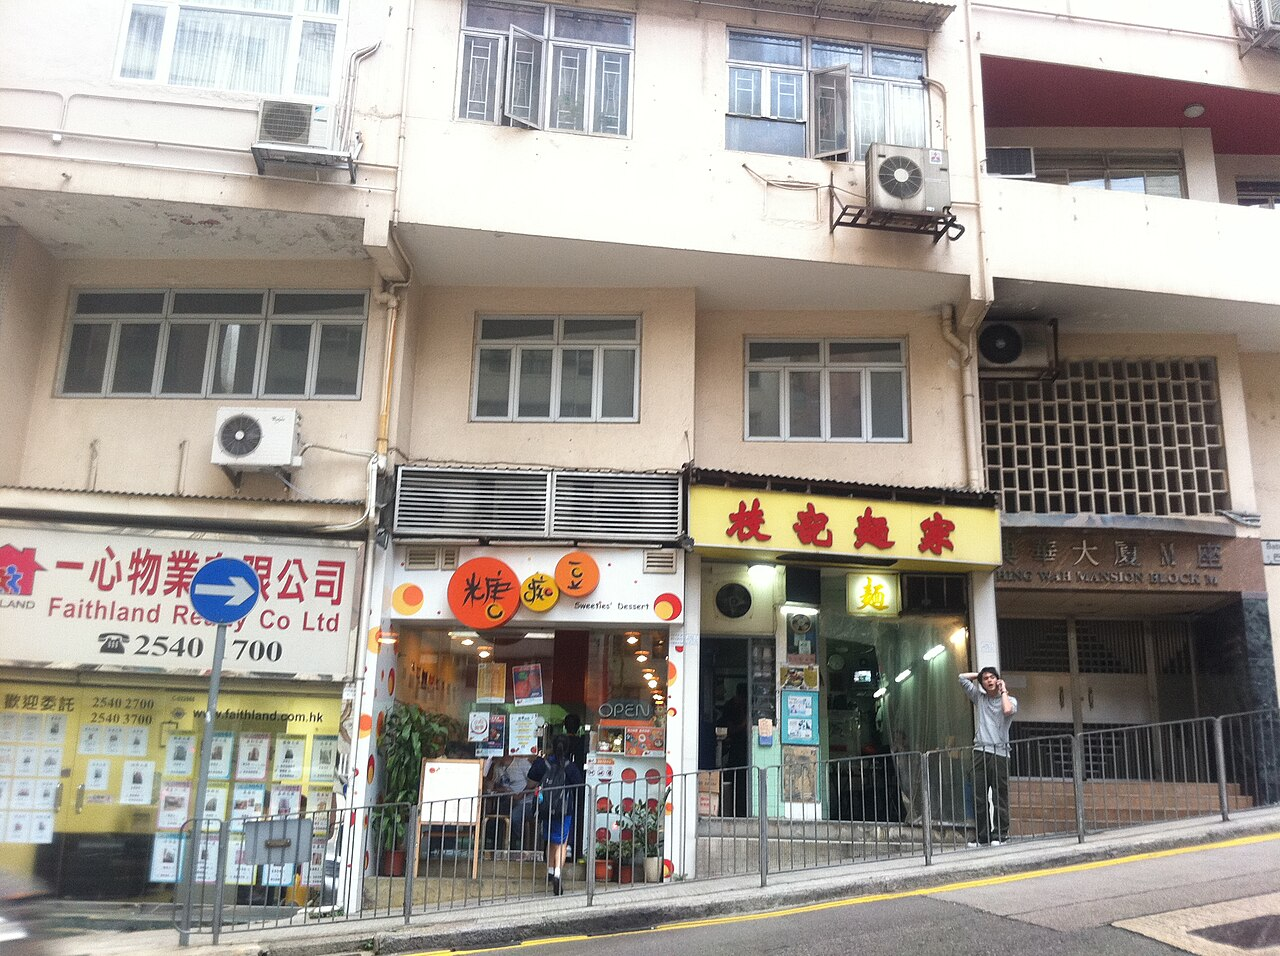Turn Right: (191, 556, 262, 616)
